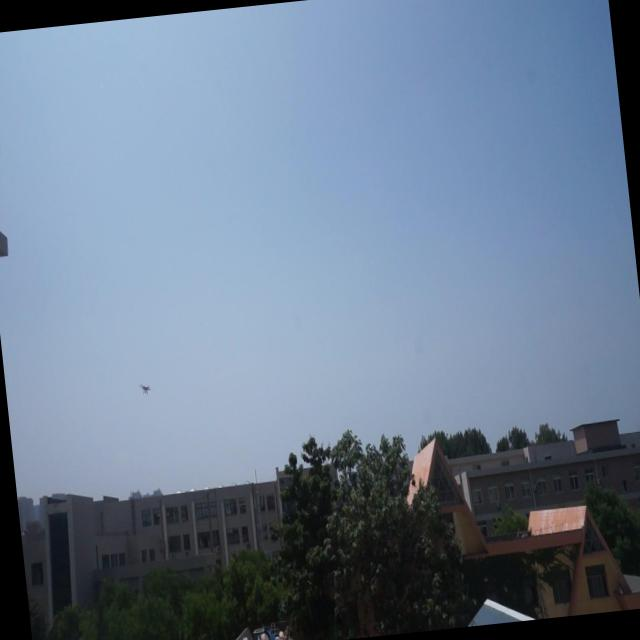drone: (138, 378, 152, 398)
